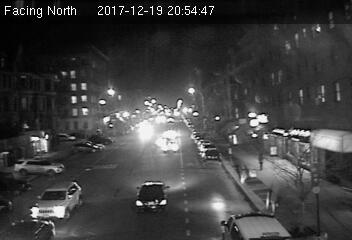car: (32, 182, 85, 221), (134, 181, 168, 212), (203, 149, 220, 165), (161, 140, 178, 153)
police: (215, 209, 291, 240)
